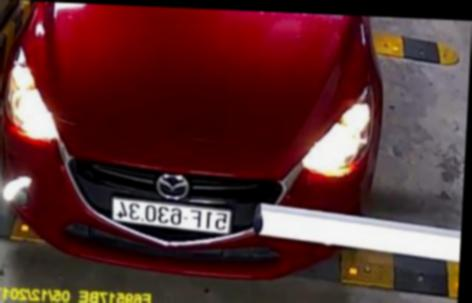License_Plate: (101, 196, 244, 240)
